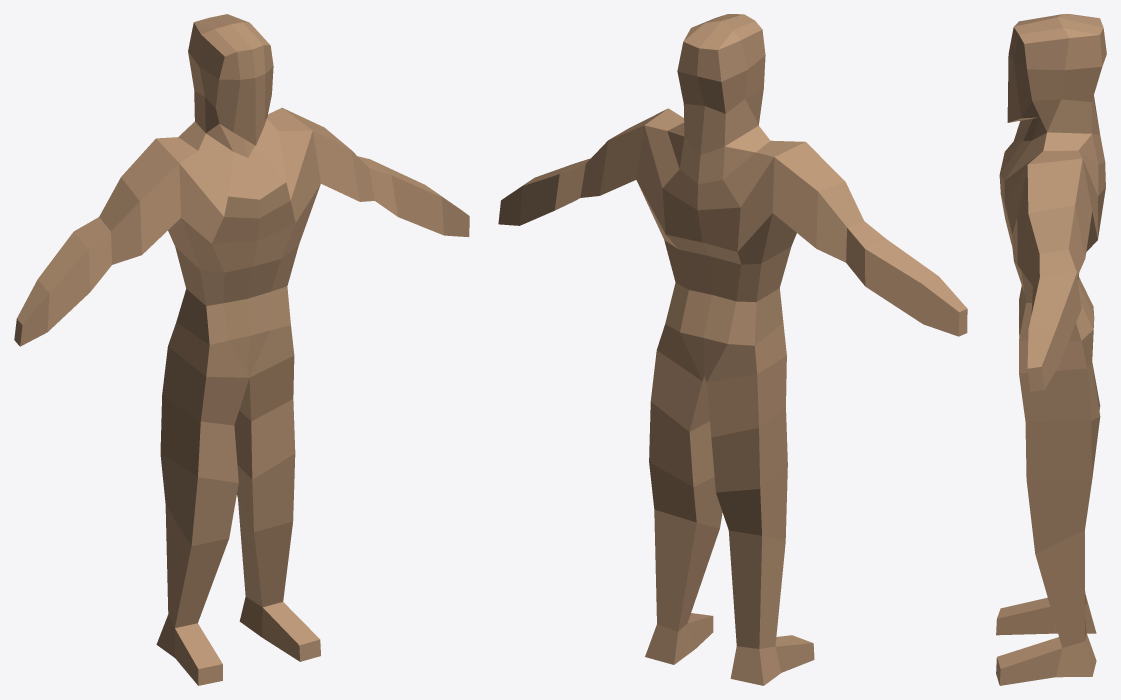
The model's file is Base_Mesh_Bad.fbx.
3 renders of one model, left to right at view 1: azimuth 30°, elevation 25°; view 2: azimuth 150°, elevation 25°; view 3: azimuth 270°, elevation 25°, orthographic. The views are drawn at different scales.
Parts seen in each view (by area): view 1: Cube; view 2: Cube; view 3: Cube.
Part boxes in pixels (left/top/right/bottom): Cube: left=14, top=14, right=469, bottom=685; Cube: left=498, top=14, right=967, bottom=685; Cube: left=996, top=14, right=1106, bottom=685.
Size of the model in its own units: 342 by 455 by 71.63.
